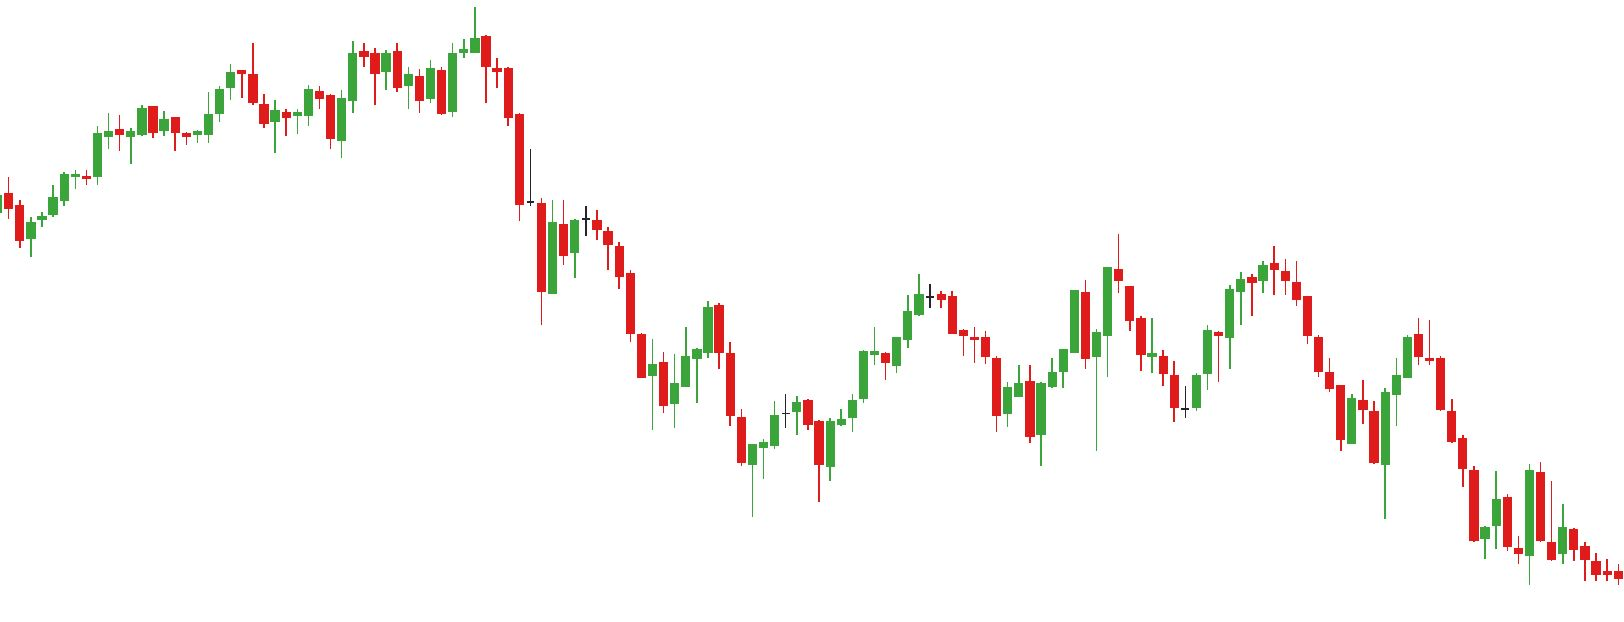buy: (759, 414, 839, 507)
sell: (912, 230, 1138, 340), (345, 6, 492, 111)
